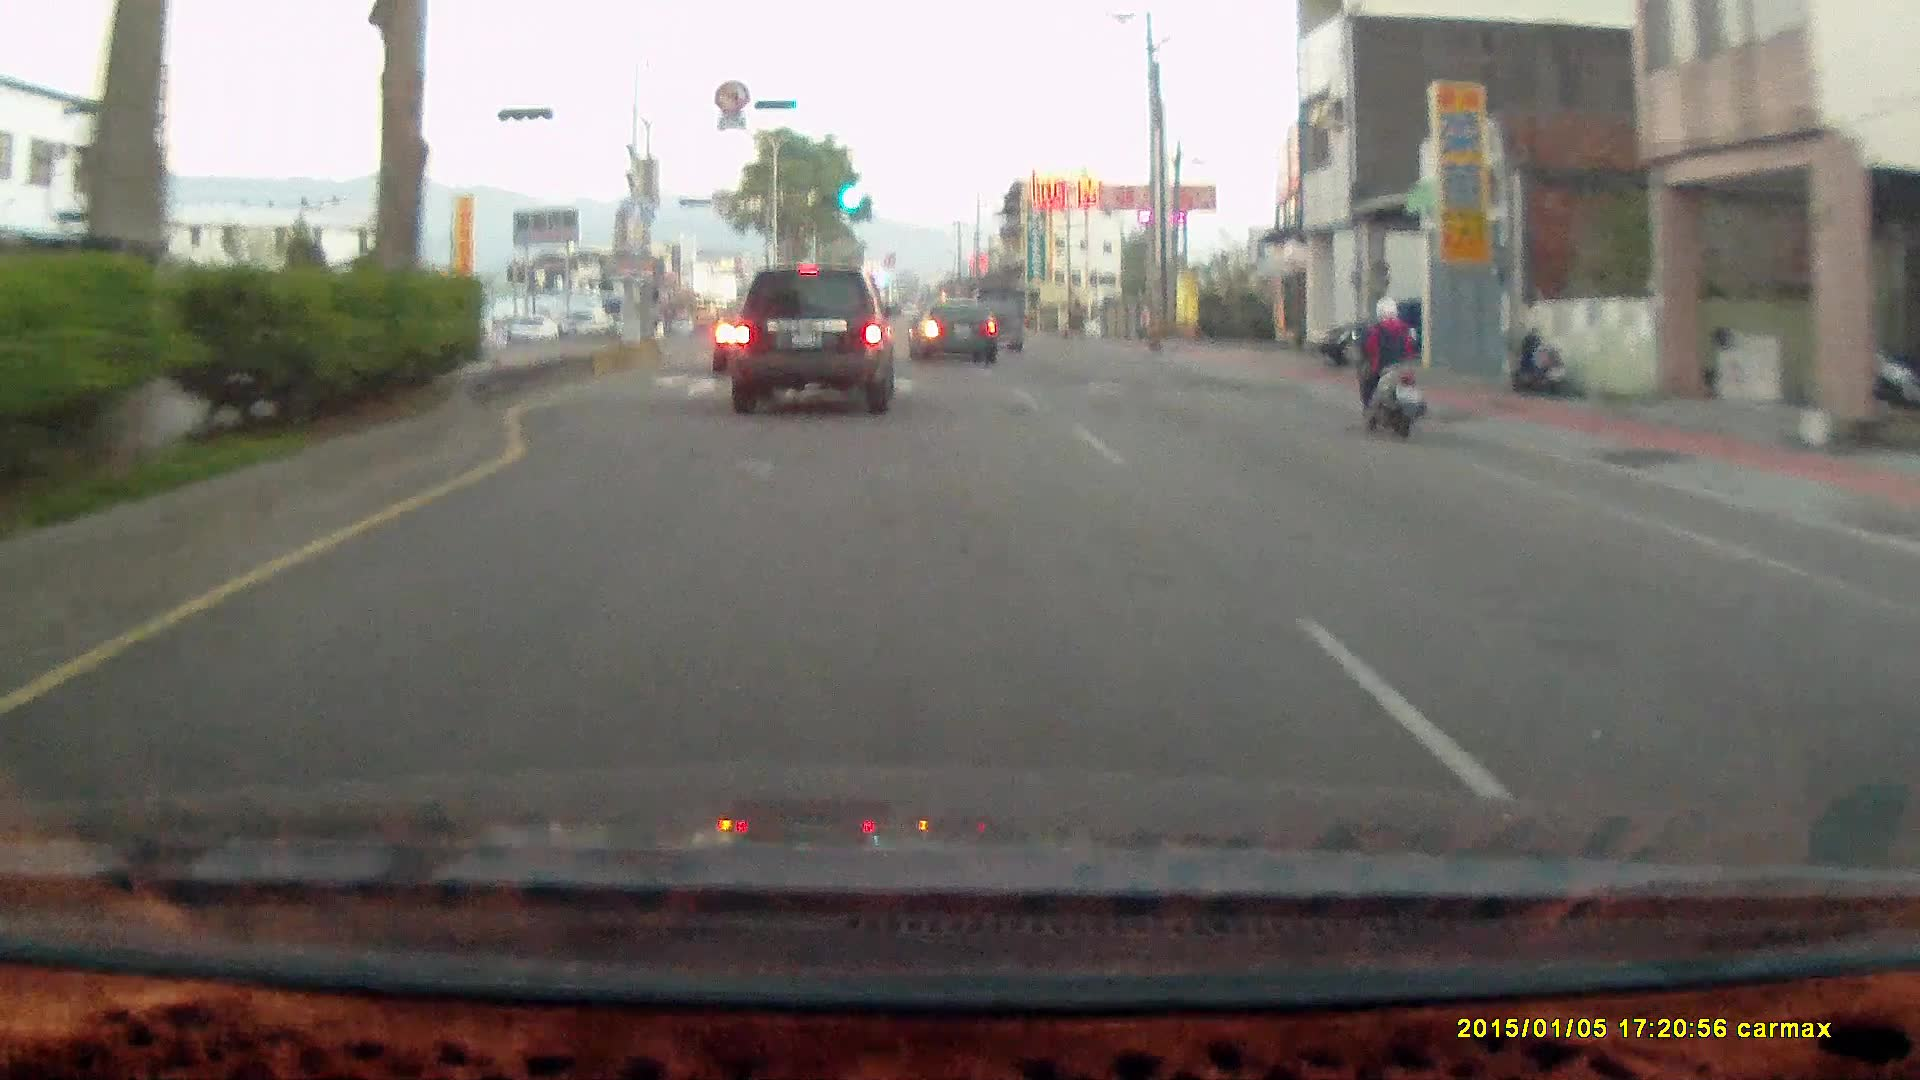rider: (1336, 282, 1443, 450), (1351, 293, 1427, 437)
vehicle: (723, 261, 895, 419), (727, 267, 898, 415), (1307, 293, 1490, 364), (1317, 290, 1431, 365), (910, 297, 1003, 364), (909, 302, 997, 366), (964, 286, 1026, 352), (968, 289, 1028, 356), (559, 309, 608, 339), (509, 315, 558, 343)
